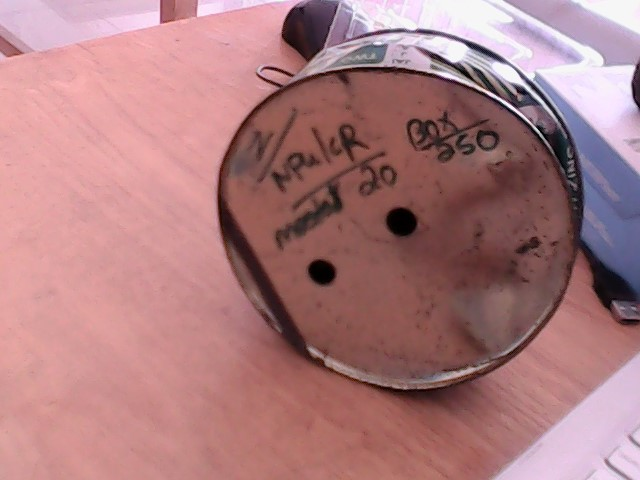Metal: (210, 54, 596, 398)
